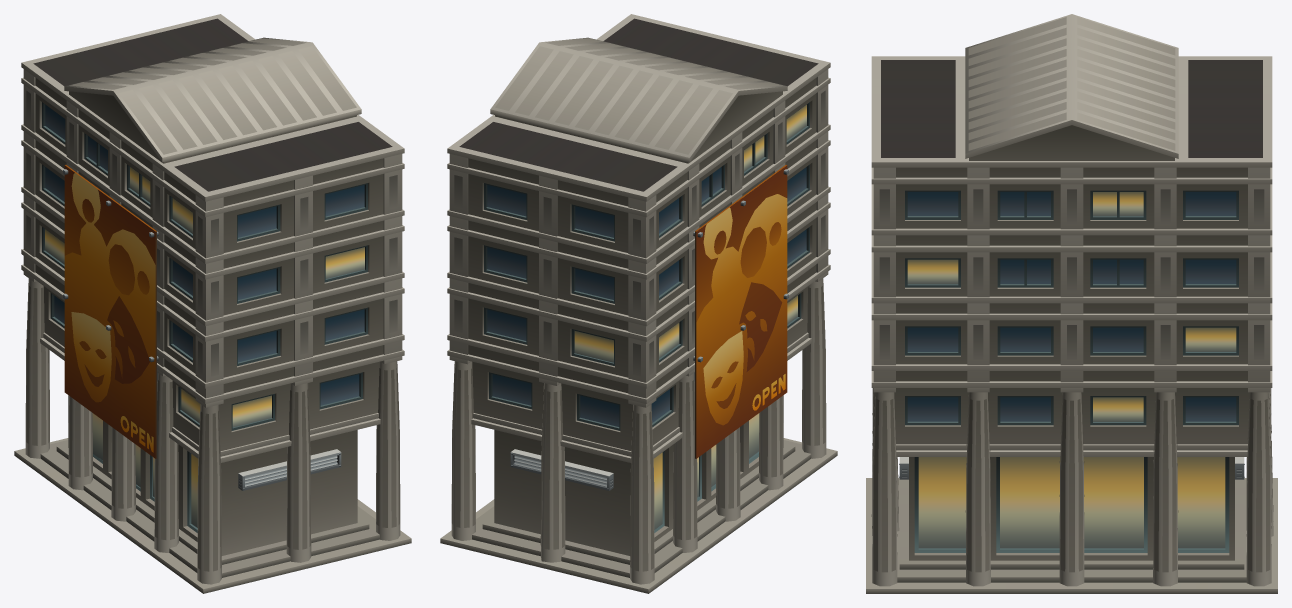
File: Building_13B.fbx
3 renders of one model, left to right at view 1: azimuth 30°, elevation 25°; view 2: azimuth 150°, elevation 25°; view 3: azimuth 270°, elevation 25°, orthographic. The views are drawn at different scales.
Visible parts, largest first — view 1: Building_13B, Branding_13B, Window_lights_13B, Air_Conditioner_13B; view 2: Building_13B, Branding_13B, Window_lights_13B, Air_Conditioner_13B; view 3: Building_13B, Window_lights_13B.
Boxes of the visible parts, left/top/right/bottom form: Building_13B: left=14, top=14, right=411, bottom=593; Branding_13B: left=63, top=165, right=158, bottom=458; Window_lights_13B: left=45, top=167, right=364, bottom=527; Air_Conditioner_13B: left=238, top=449, right=341, bottom=490; Building_13B: left=440, top=14, right=837, bottom=593; Branding_13B: left=693, top=165, right=788, bottom=458; Window_lights_13B: left=574, top=104, right=806, bottom=529; Air_Conditioner_13B: left=510, top=449, right=613, bottom=490; Building_13B: left=866, top=14, right=1277, bottom=593; Window_lights_13B: left=907, top=192, right=1236, bottom=548.
Bounding box in the file's own units: 14.12 × 27.8 × 22.
